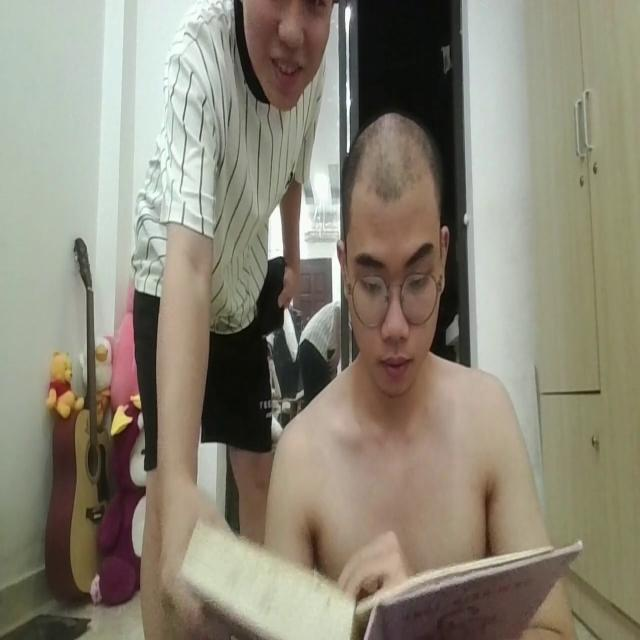book: (173, 477, 584, 640)
extra_person: (106, 0, 338, 640)
student: (270, 106, 567, 640)
